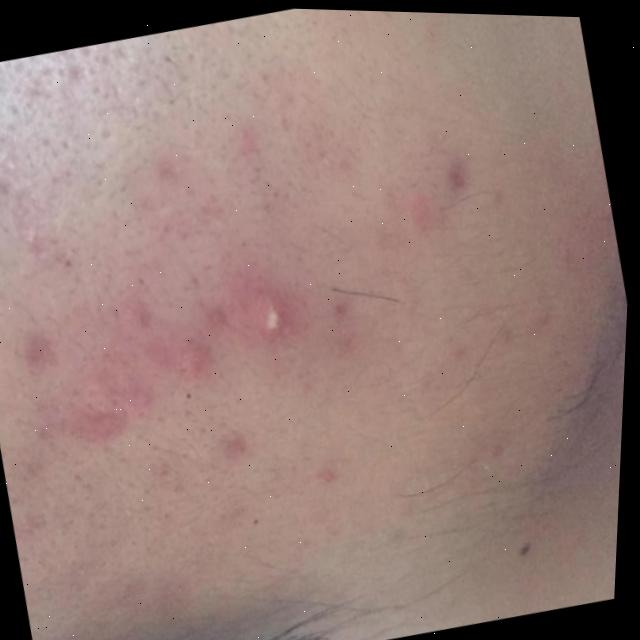Acne: (0, 57, 495, 556)
